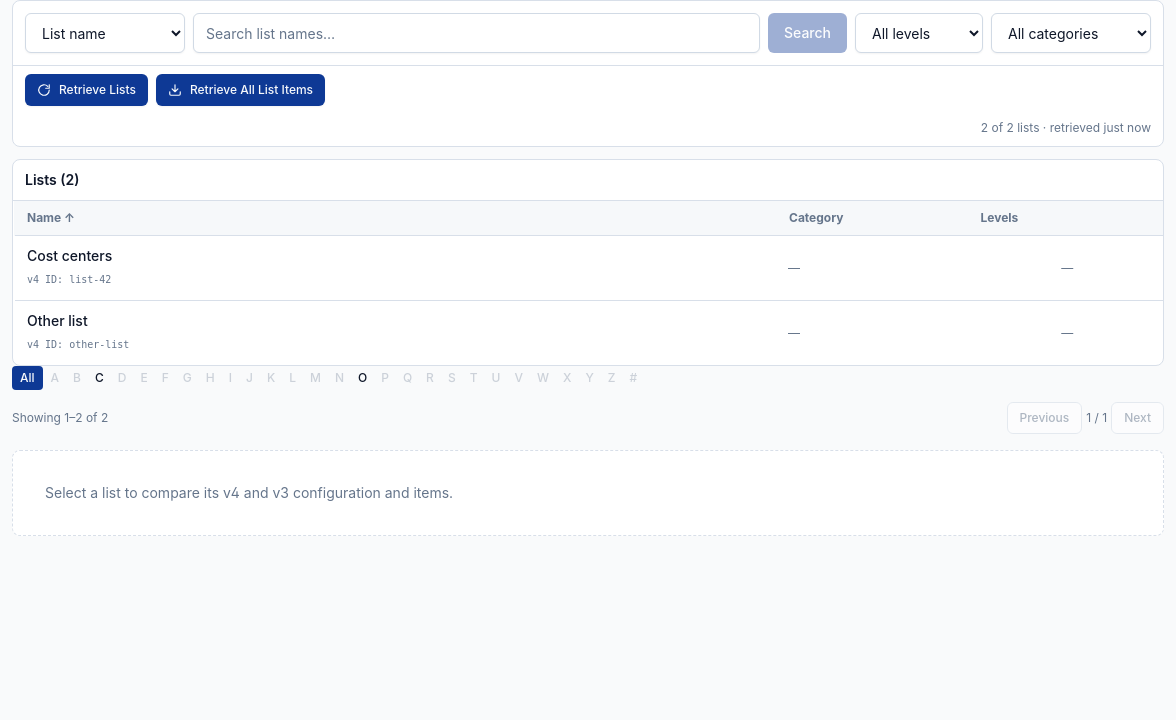
Test: ListsView table actions › finds a grouped list by either version ID: list-42
The image size is (1176, 720).
Expected: the button "Other list" is shown, 27,311 -> 88,331
Select "List ID (v3 / v4)" in the dropdown named "Search lists by": (105, 33) 25,13 -> 185,53
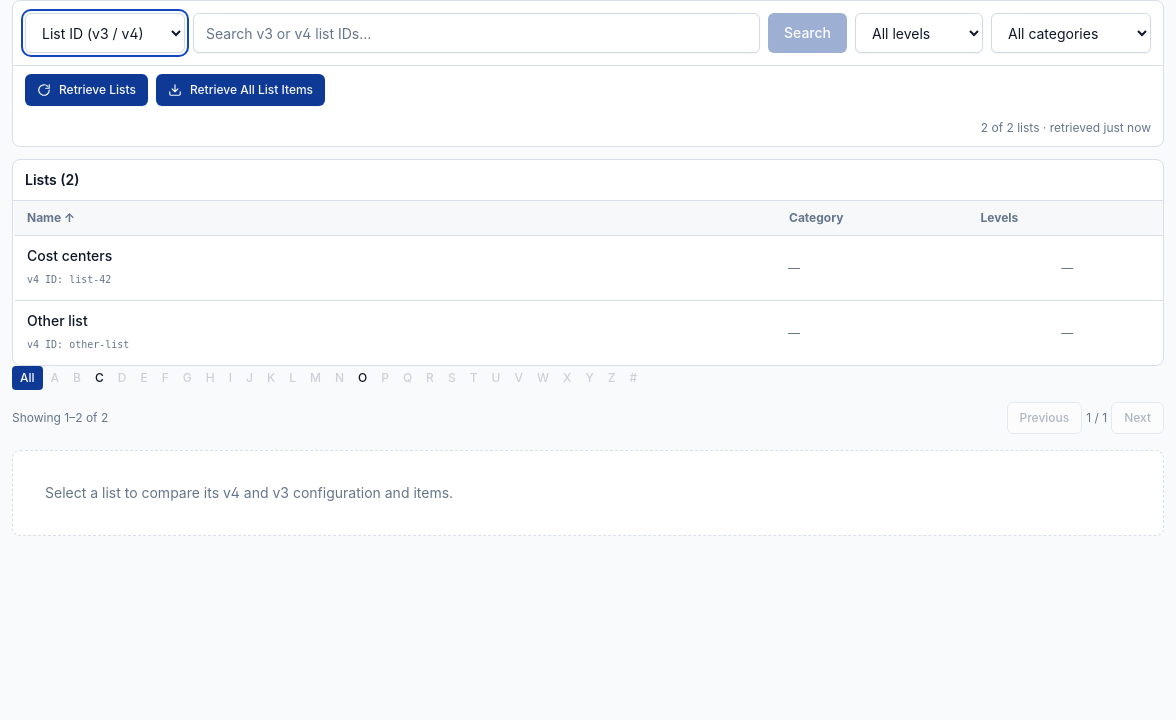
In the field named "Search lists": (476, 33) 193,13 -> 760,53, type "list-42"
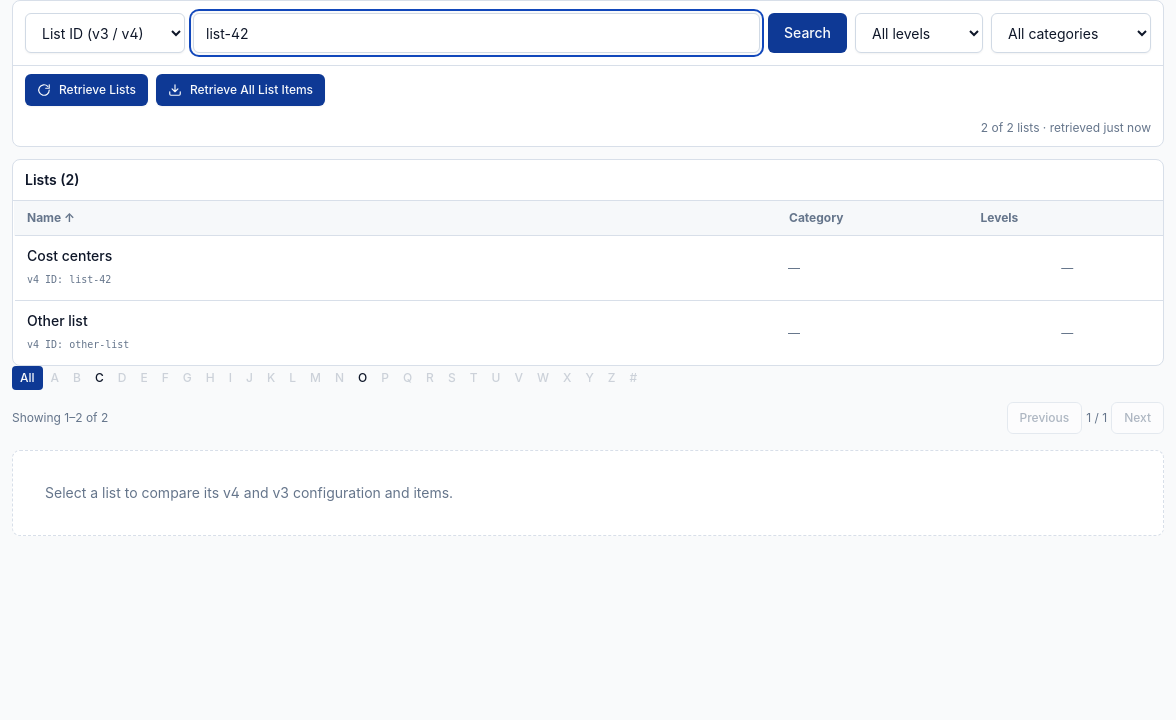
Click the button "Search": (808, 33) 768,13 -> 847,53
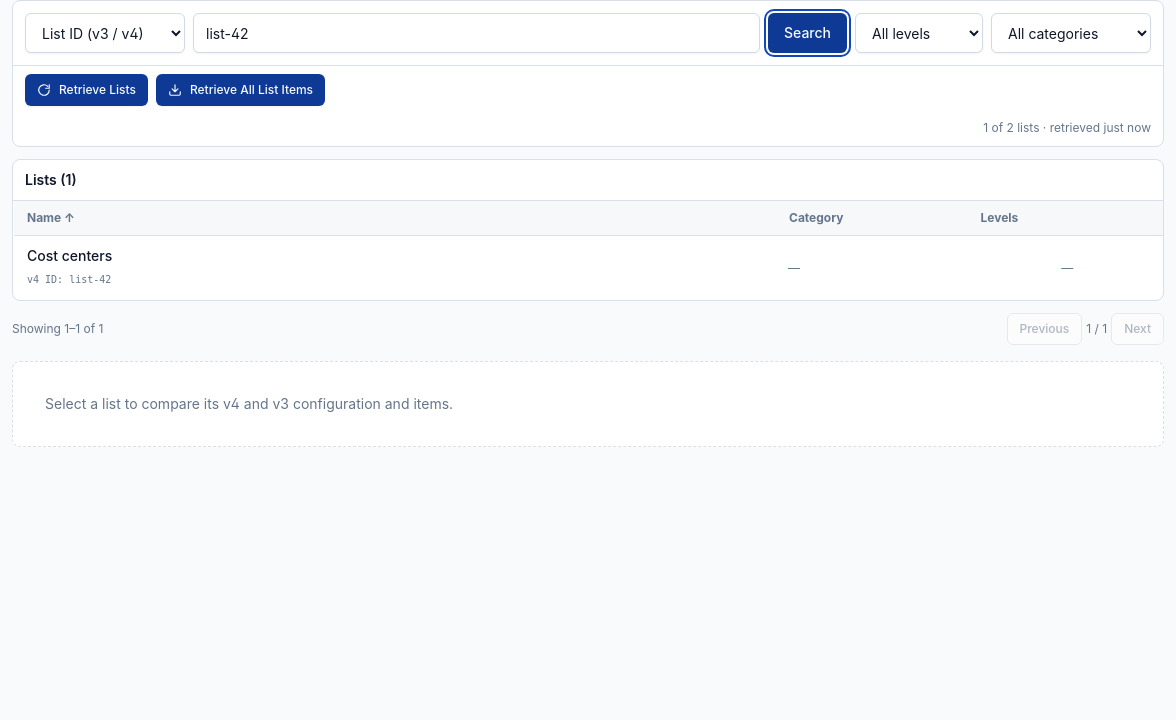
Expected: the text "v4 ID: list-42" is shown, 27,274 -> 111,285
Result: the button "Other list" is gone
